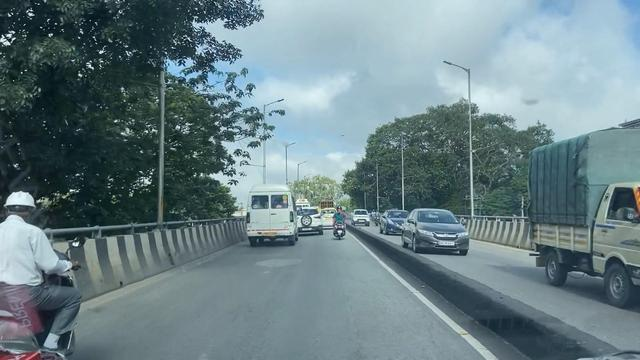HMV: (246, 189, 295, 236)
LMV: (0, 190, 98, 360), (332, 205, 343, 240)
RoadDamages: (257, 254, 303, 270)
